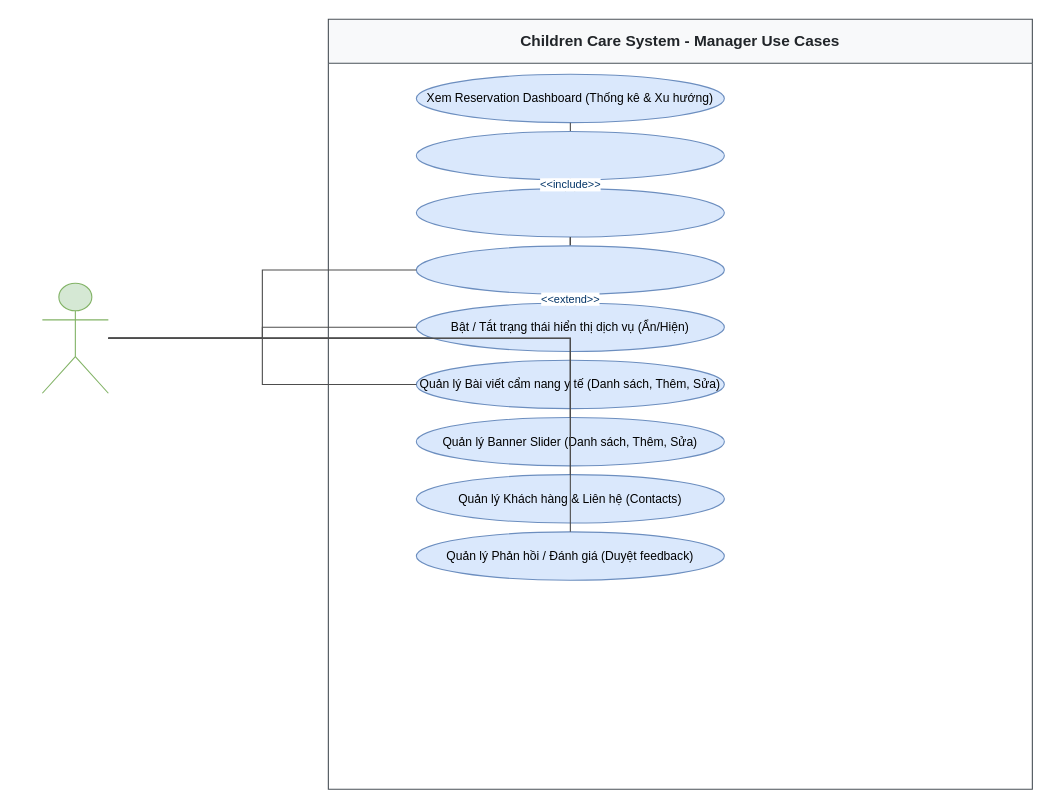
Some shapes in this 1052 by 809 pixel diagram are drawn without their labels. The box of each missing label's shape, as (x1, y1, x2, y2) in pixels:
Quản lý Gói dịch vụ y tế (Xem, Thêm, Sửa): (415, 245, 724, 294)
Quản lý Lịch hẹn (Xem, Lọc, Phân công ca khám): (415, 130, 724, 180)
Quản lý trung tâm (Manager): (41, 282, 108, 393)
Xem & Chỉnh sửa chi tiết lịch hẹn khám: (415, 188, 724, 237)
